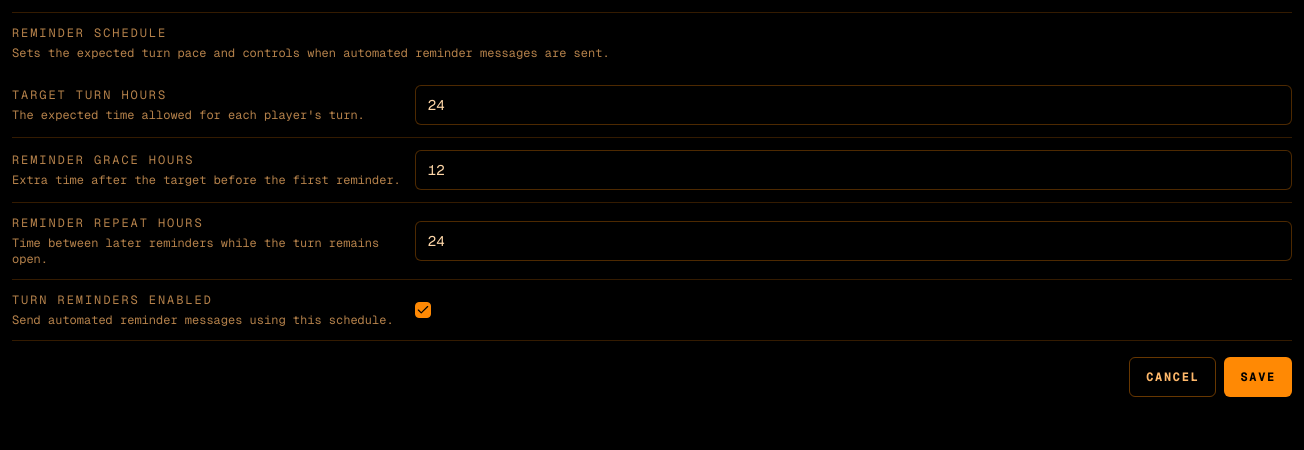
Test: CampaignSettingsEditor › rejects invalid Reminder grace hours values without fetching
The width and height of the screenshot is (1304, 450).
Replace the text in the number field labelled "Reminder grace hours" with "1.5" at (853, 170), box [415, 150, 1292, 190]
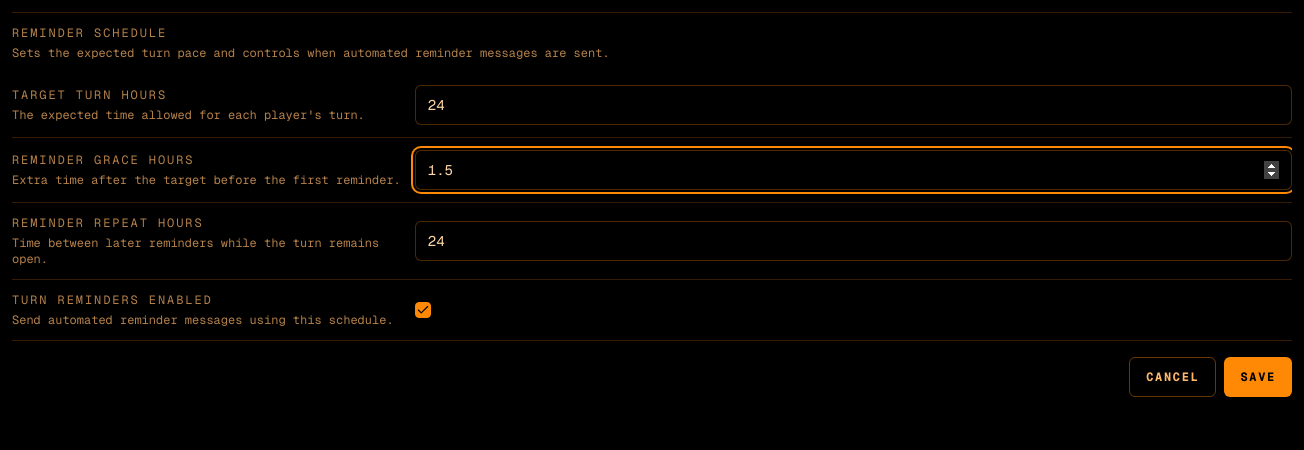
Click the button "Save" at (1258, 377), box [1224, 357, 1292, 397]
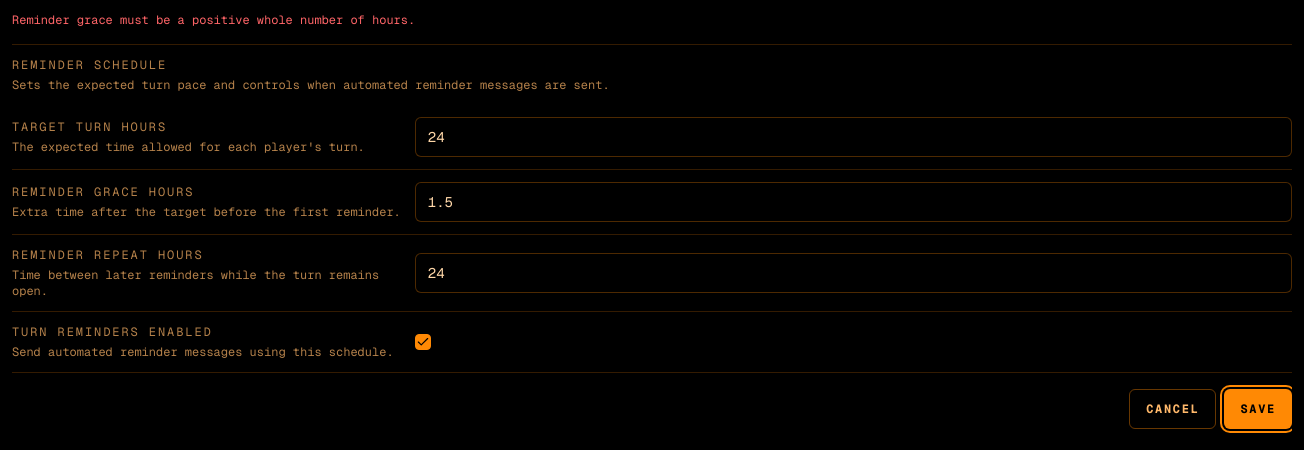
Expected: the message shows "Reminder grace", [12, 12, 415, 28]
